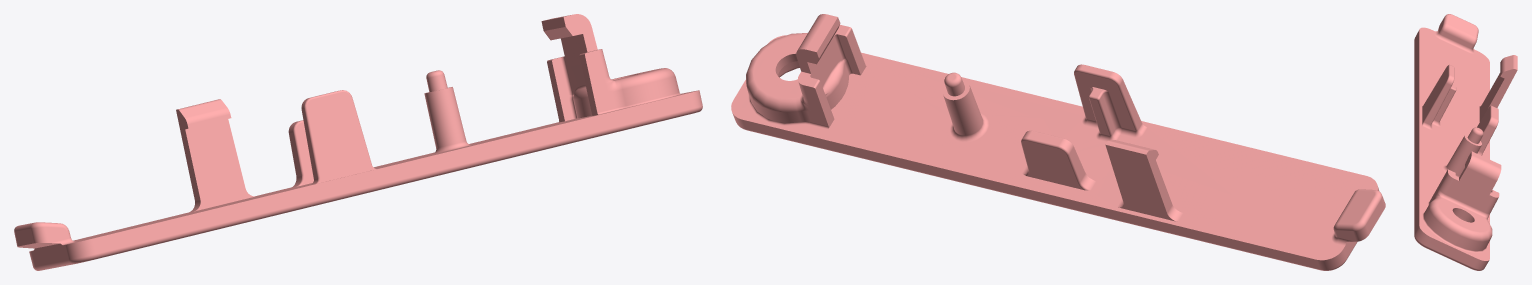
The picture shows the model from 3 angles, left to right: view 1: azimuth 30°, elevation 25°; view 2: azimuth 150°, elevation 25°; view 3: azimuth 270°, elevation 25°; orthographic projection. The views are drawn at different scales.
Parts seen in each view (by area): view 1: 门体-65_Default; view 2: 门体-65_Default; view 3: 门体-65_Default.
Boxes of the visible parts, x1,y1,x2,y2 form: 门体-65_Default: (14,14,702,270); 门体-65_Default: (731,14,1385,270); 门体-65_Default: (1414,14,1517,270).
Bounding box in the file's own units: 0.0717 × 0.0139 × 0.0146.
